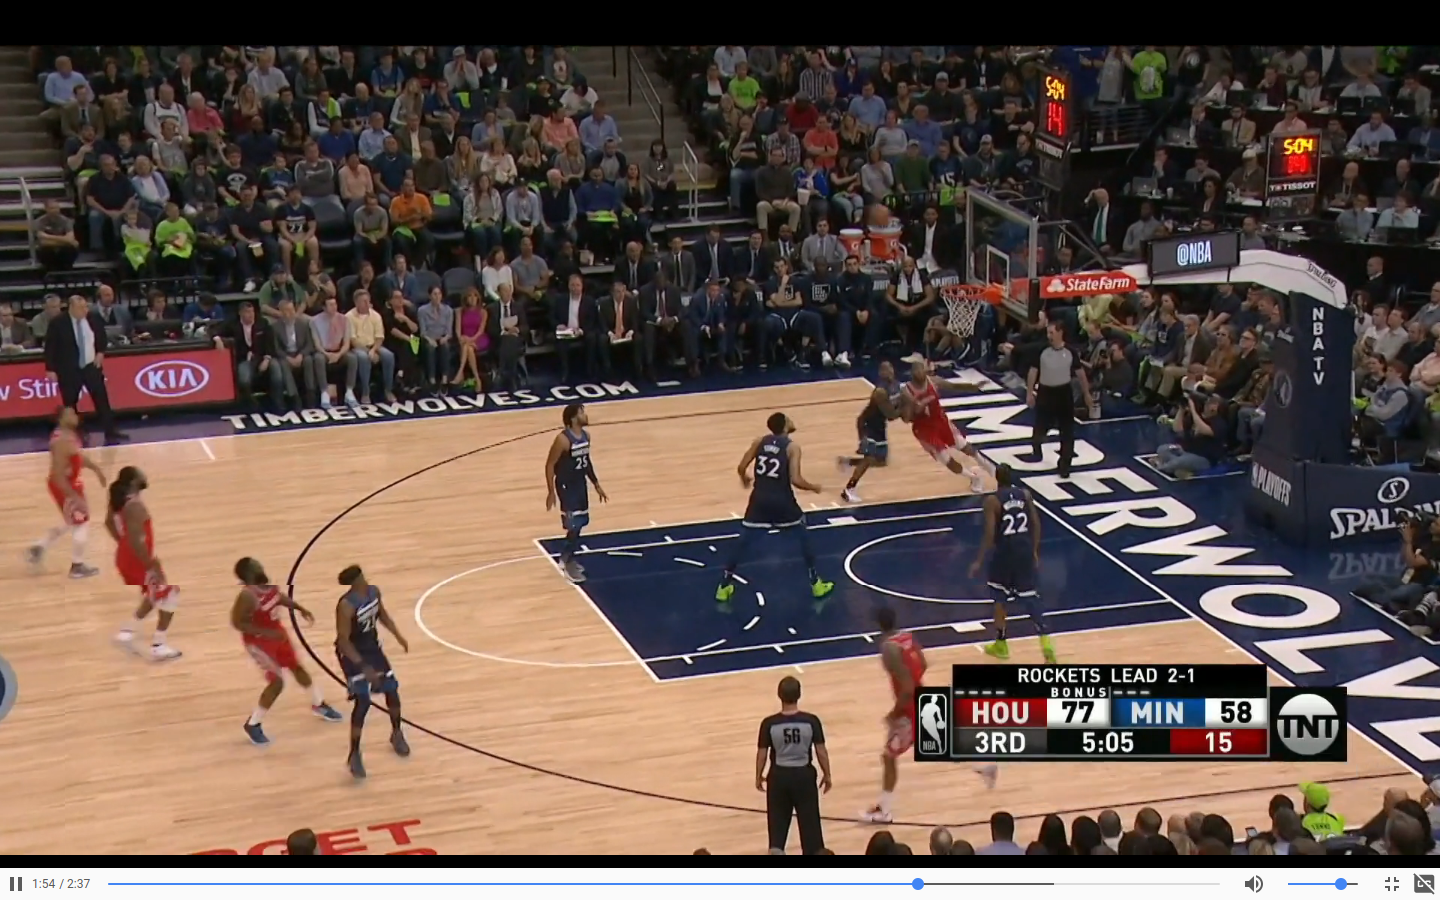ball: (871, 204, 894, 229)
player: (224, 544, 339, 744), (326, 552, 411, 792), (103, 462, 194, 684), (748, 409, 823, 614), (552, 397, 617, 585), (30, 411, 94, 590), (908, 331, 966, 518), (834, 359, 899, 510)
referee: (756, 682, 834, 849), (1019, 330, 1085, 480)
